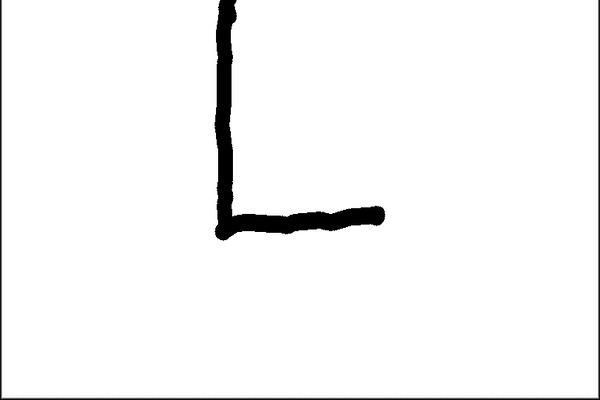L: (203, 1, 393, 244)
